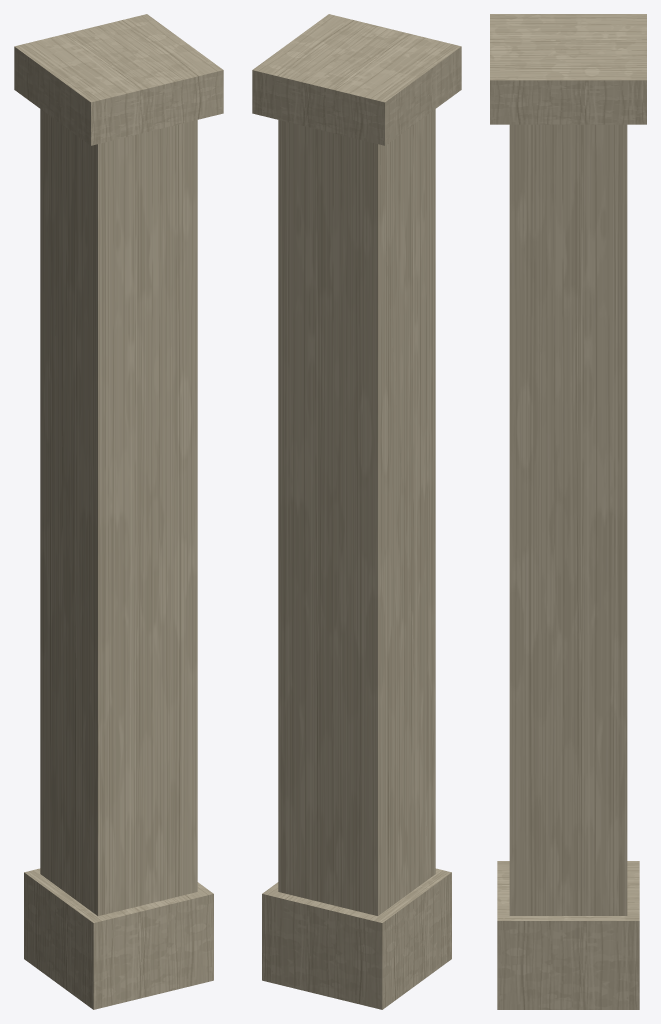
File: fence_two_rail_post.glb
3 renders of one model, left to right at view 1: azimuth 30°, elevation 25°; view 2: azimuth 150°, elevation 25°; view 3: azimuth 270°, elevation 25°, orthographic. The views are drawn at different scales.
Parts seen in each view (by area): view 1: outdoor_fence_two_rail_post; view 2: outdoor_fence_two_rail_post; view 3: outdoor_fence_two_rail_post.
Boxes of the visible parts, bbox=[...] form: outdoor_fence_two_rail_post: bbox=[14, 14, 223, 1009]; outdoor_fence_two_rail_post: bbox=[252, 14, 461, 1009]; outdoor_fence_two_rail_post: bbox=[490, 14, 646, 1009].
Size of the model in its own units: 0.16 by 1.05 by 0.16.
Materials: 1 (1 with a texture image).
